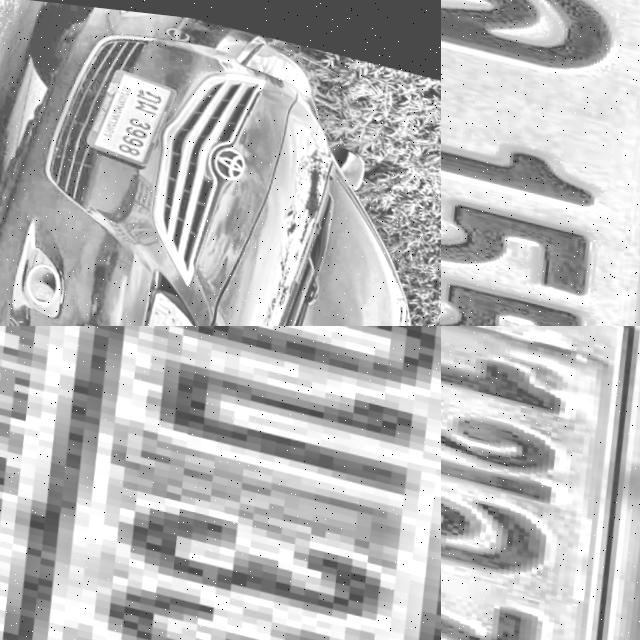license-plate: (0, 326, 441, 640), (441, 0, 640, 326), (441, 326, 640, 640), (77, 54, 182, 167)
